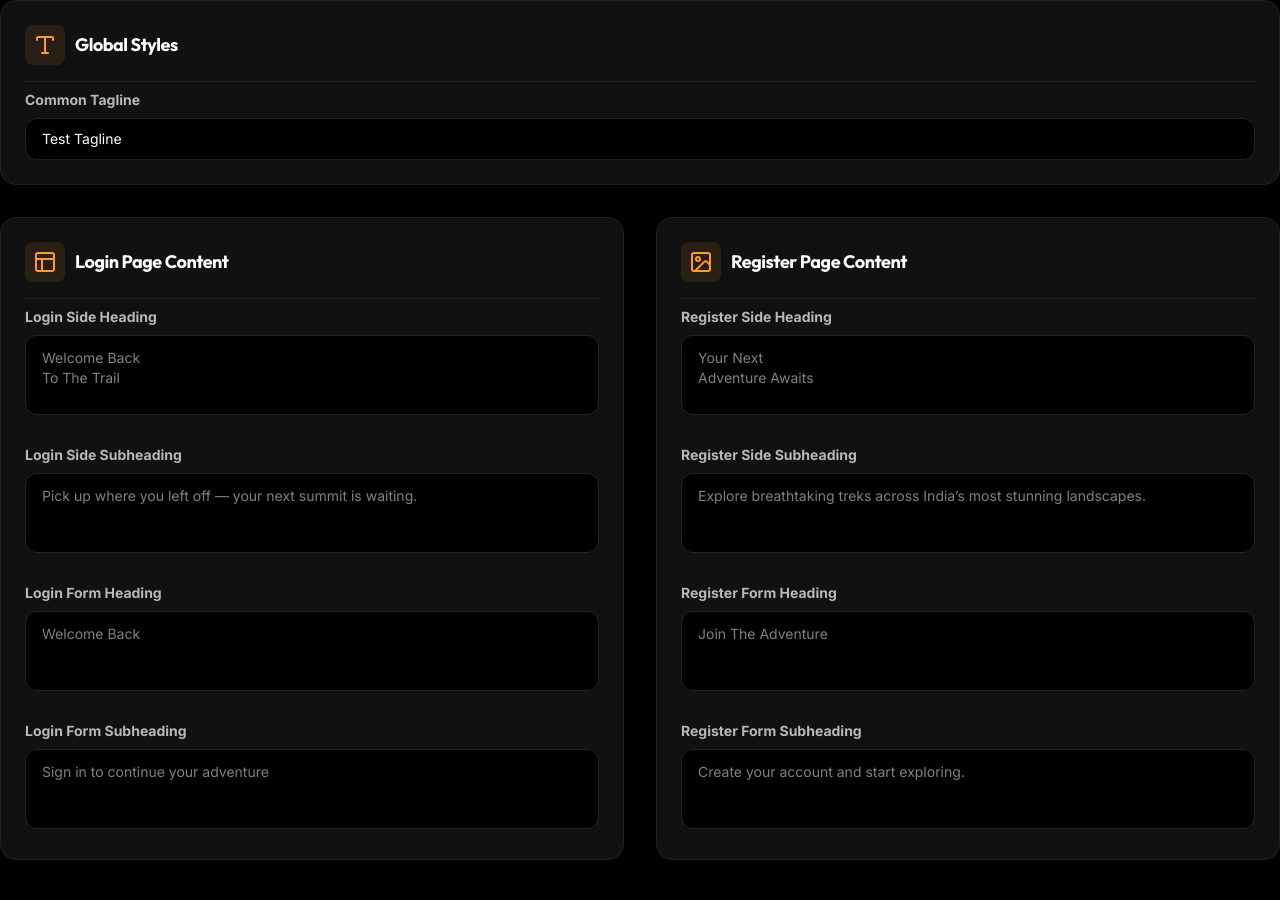
Test case: AuthContentManager Component › handles saving a setting correctly
expect the heading "Global Styles" is shown: met, box [75,31,178,59]
Replace the text in the field with "New Tagline": (640, 139) [25,118,1255,160]
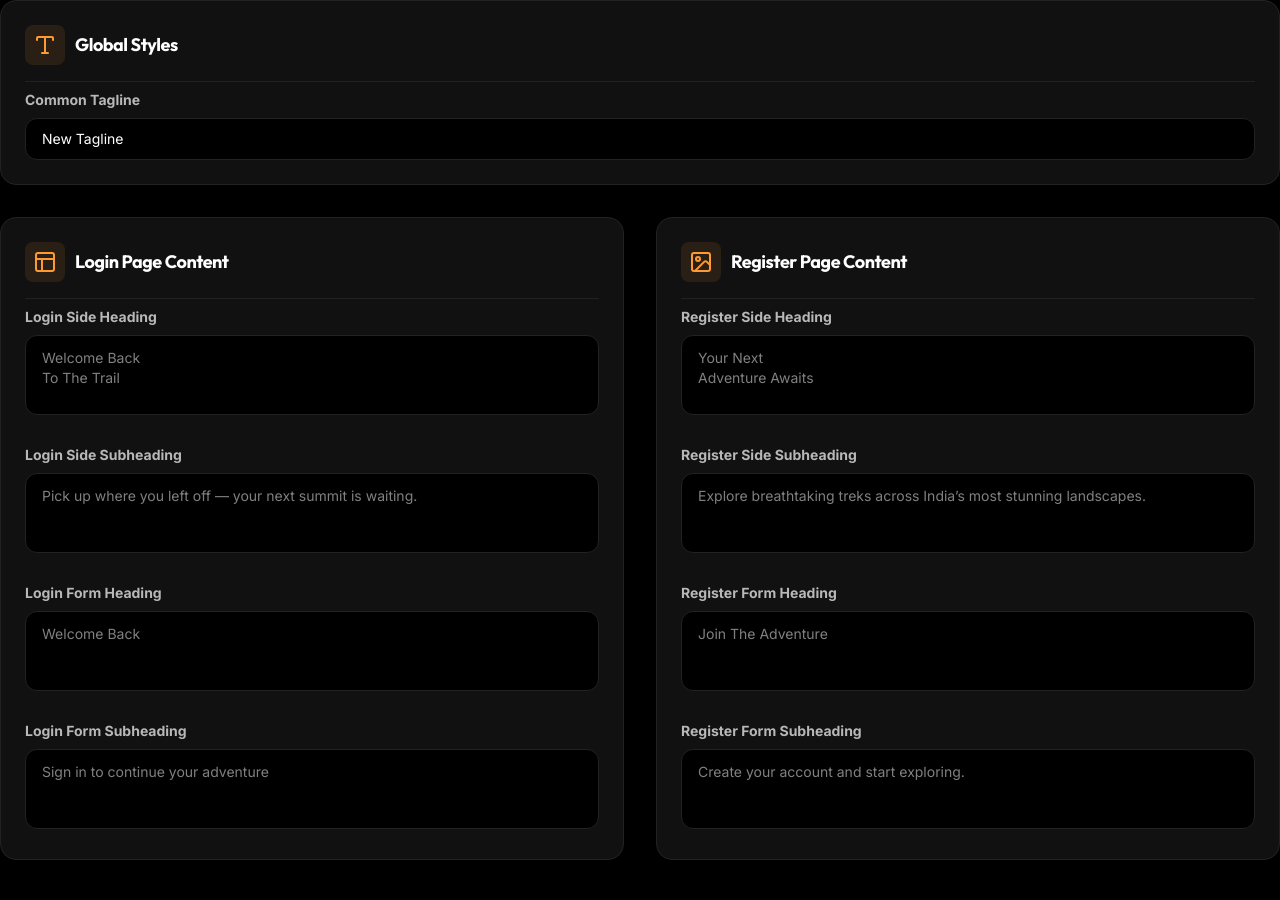
Note: Changing triggers handleSave on blur
Leave the field, box [25,118,1255,160]
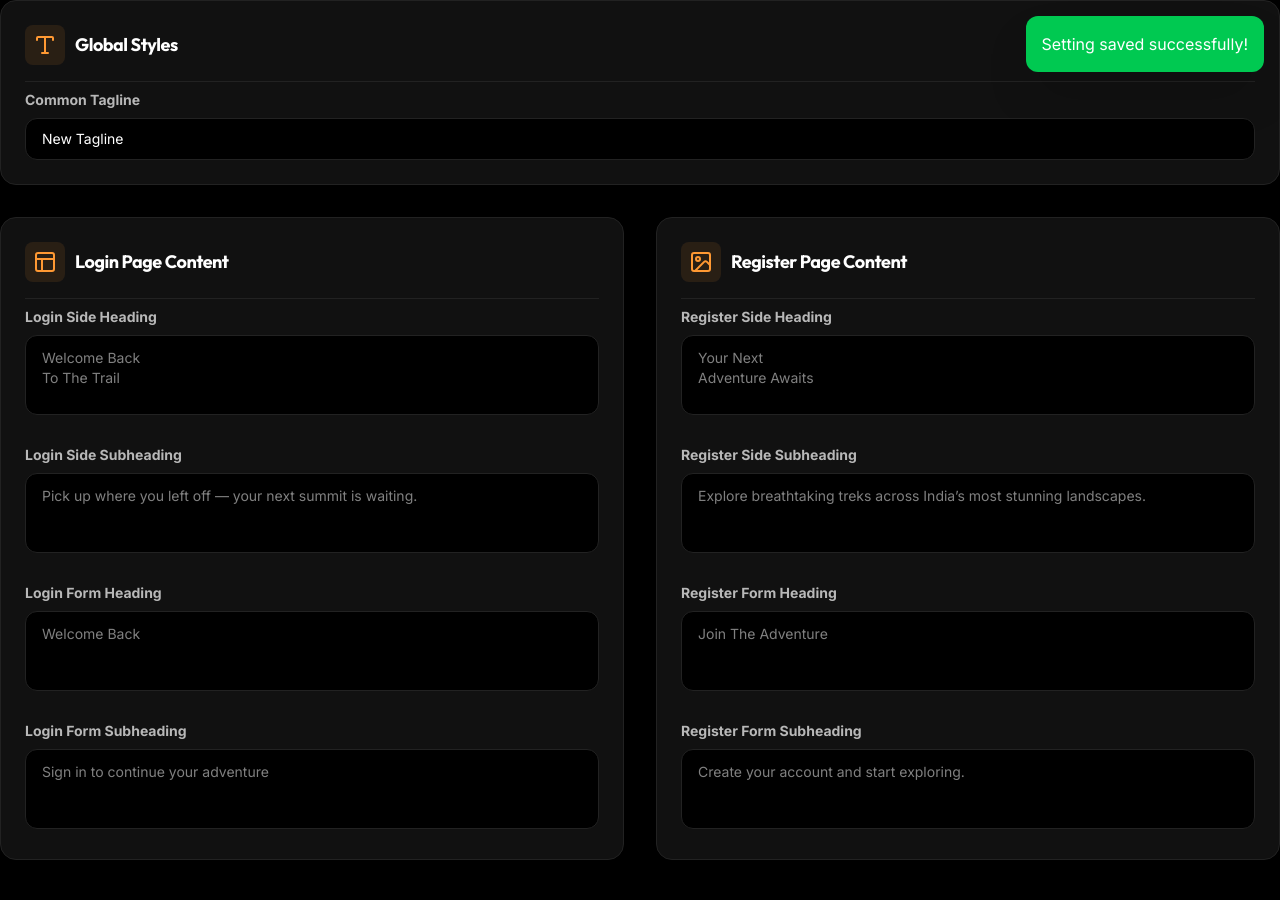
expect the text "Setting saved successfully!" is shown: met, box [1026,16,1264,72]
